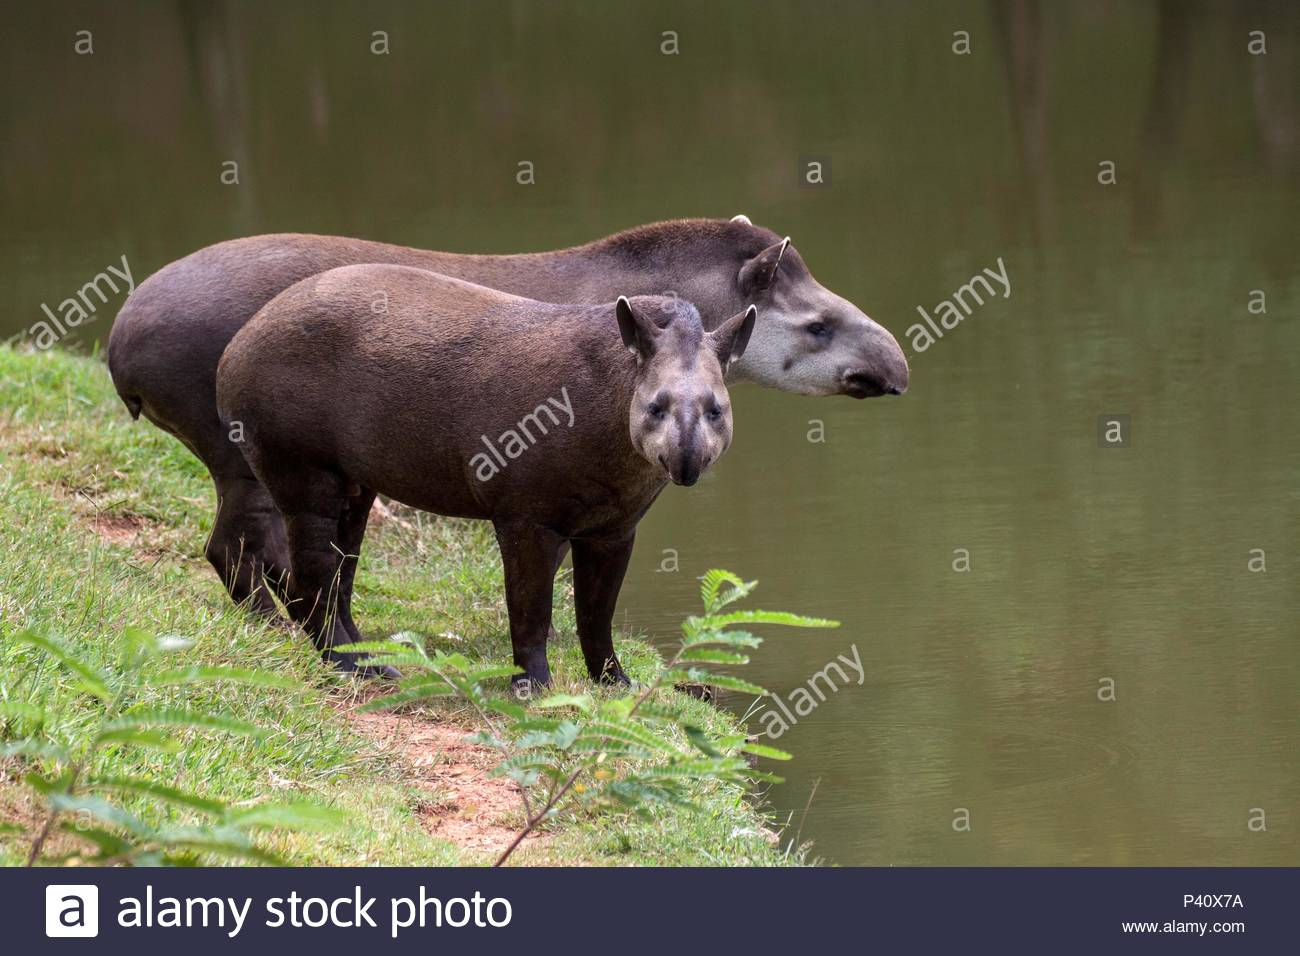Anta: (92, 198, 923, 621), (209, 259, 771, 697)
